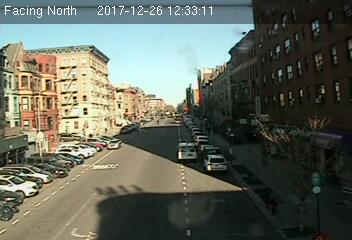car: (205, 152, 228, 173), (106, 139, 121, 149)
truck: (176, 141, 198, 162)
